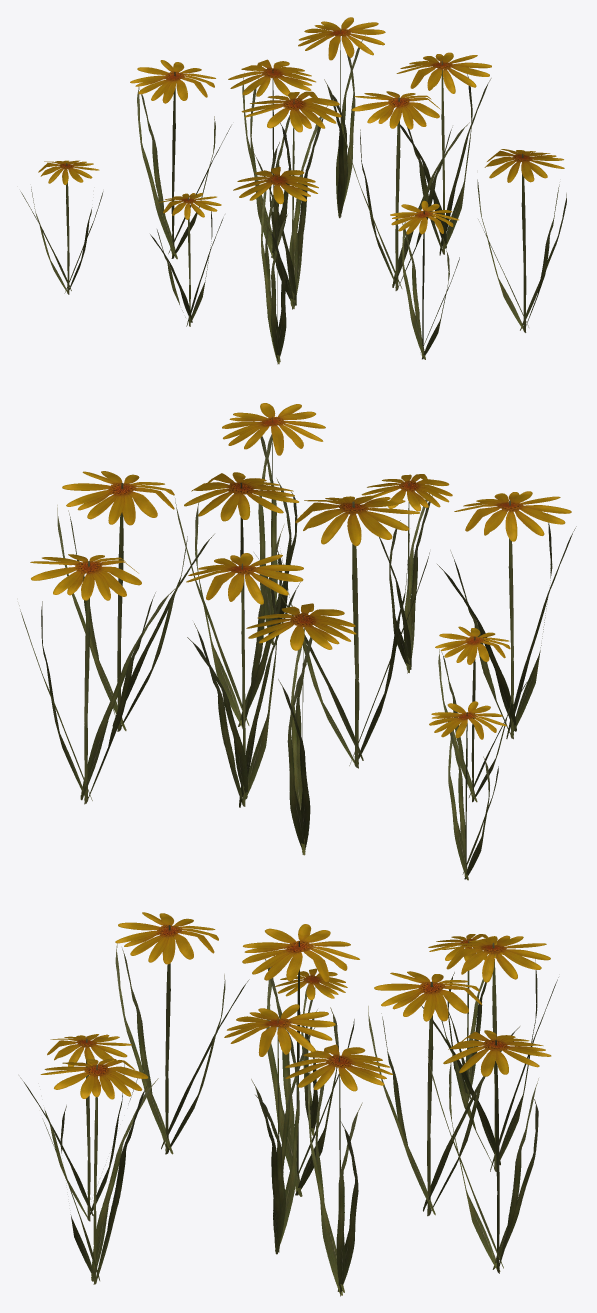
File: forest_flower1.fbx
3 views of the same model, one above another, from view 1: azimuth 30°, elevation 25°; view 2: azimuth 150°, elevation 25°; view 3: azimuth 270°, elevation 25° (orthographic). The views are drawn at different scales.
Visible parts, largest first — view 1: StaticMeshActor_50_StaticMeshComponent0; view 2: StaticMeshActor_50_StaticMeshComponent0; view 3: StaticMeshActor_50_StaticMeshComponent0.
Part boxes in pixels (left/top/right/bottom): StaticMeshActor_50_StaticMeshComponent0: left=20, top=17, right=566, bottom=364; StaticMeshActor_50_StaticMeshComponent0: left=19, top=403, right=576, bottom=880; StaticMeshActor_50_StaticMeshComponent0: left=20, top=912, right=558, bottom=1296.
Size of the model in its own units: 2.63 by 1.28 by 2.55.
